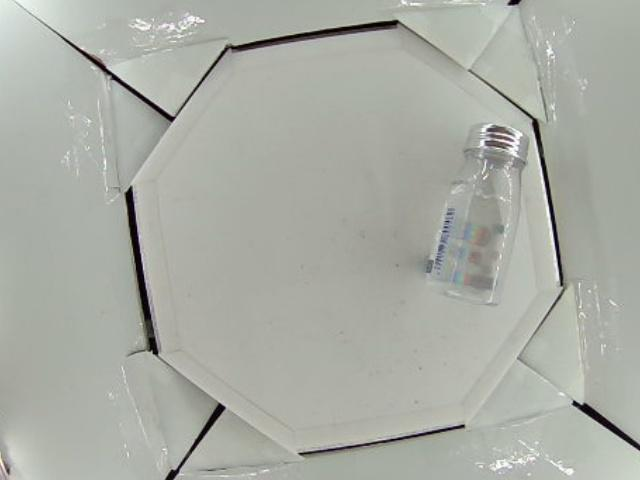Bottle: (423, 123, 531, 307)
